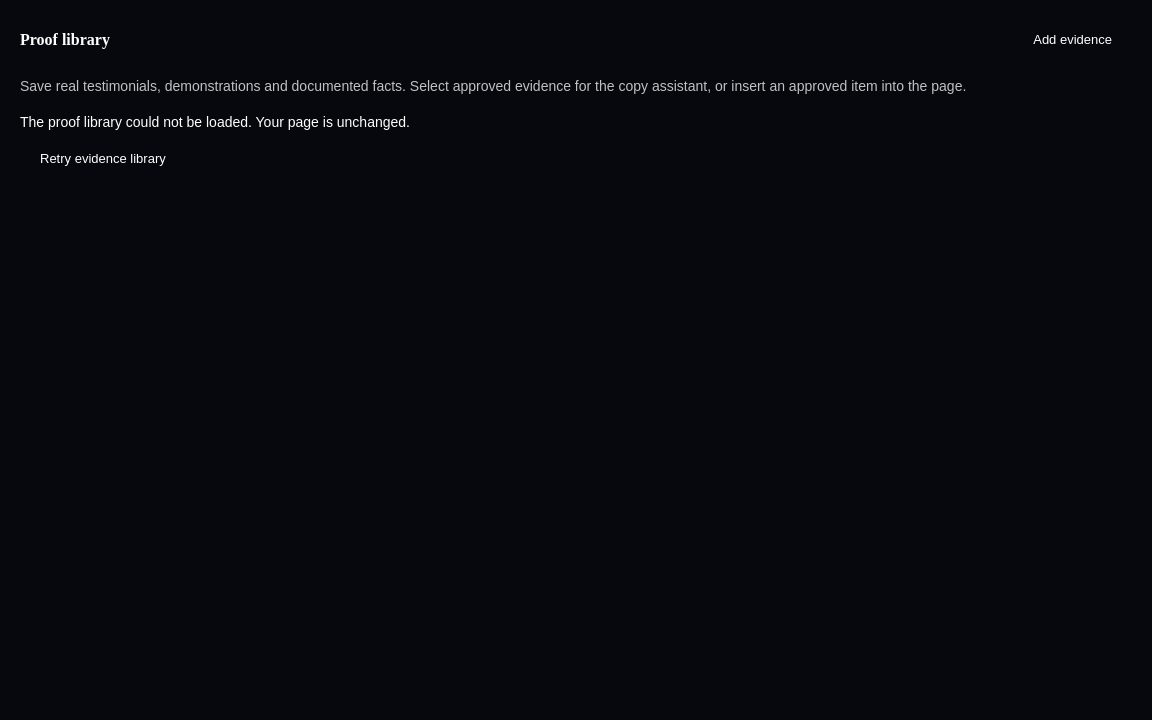
Test: proof library editing › retries a failed library read without claiming there is no evidence or discarding edits
Expected: the text "proof library could not be loaded" is shown, [20, 114, 410, 130]
Click the button "Add evidence" at (1073, 40), box [1013, 20, 1132, 60]
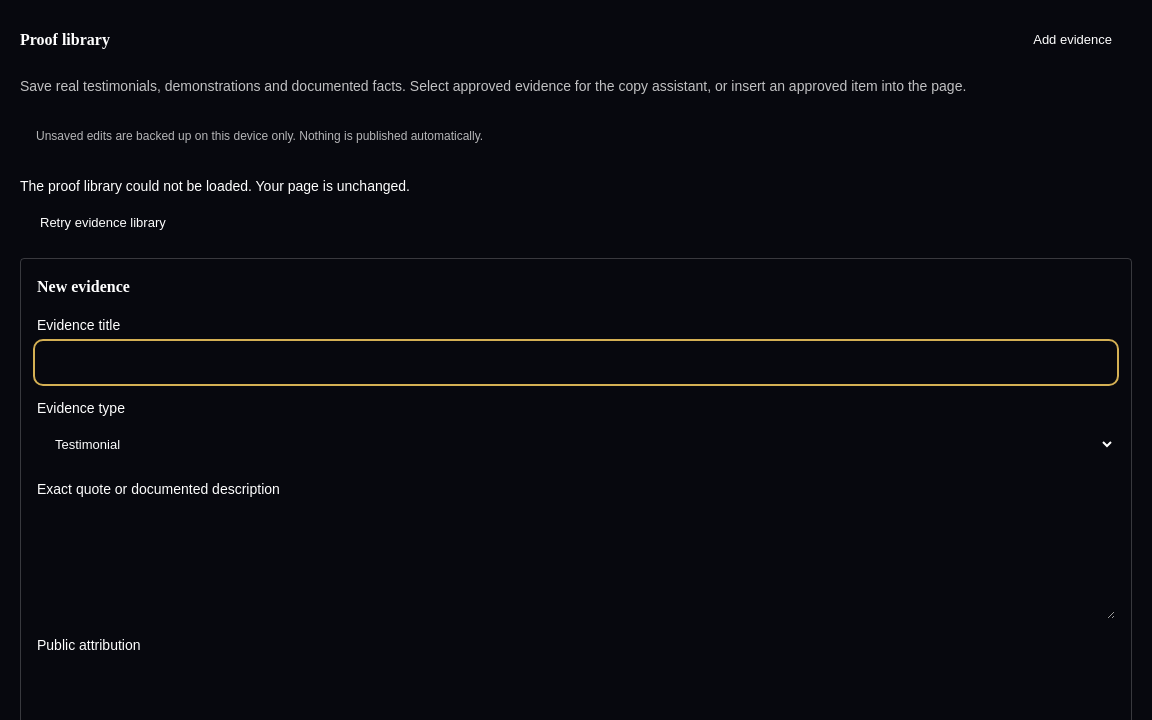
Type "My unsaved evidence" into the field labelled "Evidence title" at (576, 362), box [37, 343, 1115, 382]
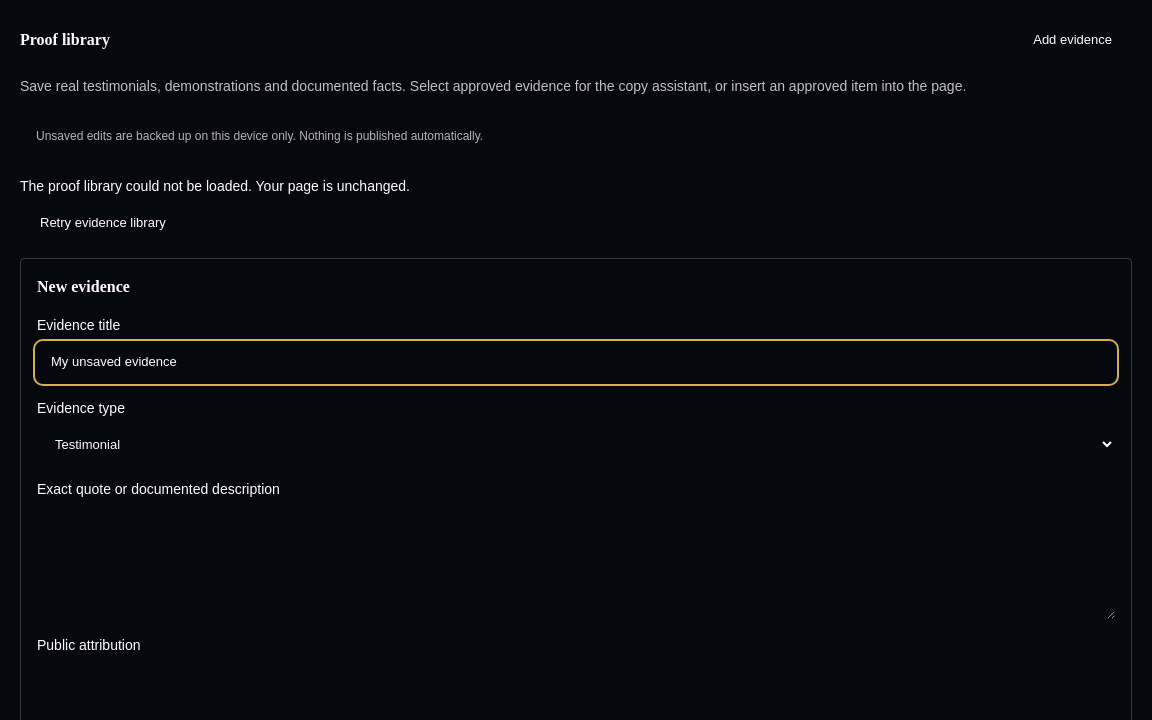
Click the button "Retry evidence library" at (103, 223), box [20, 204, 186, 242]
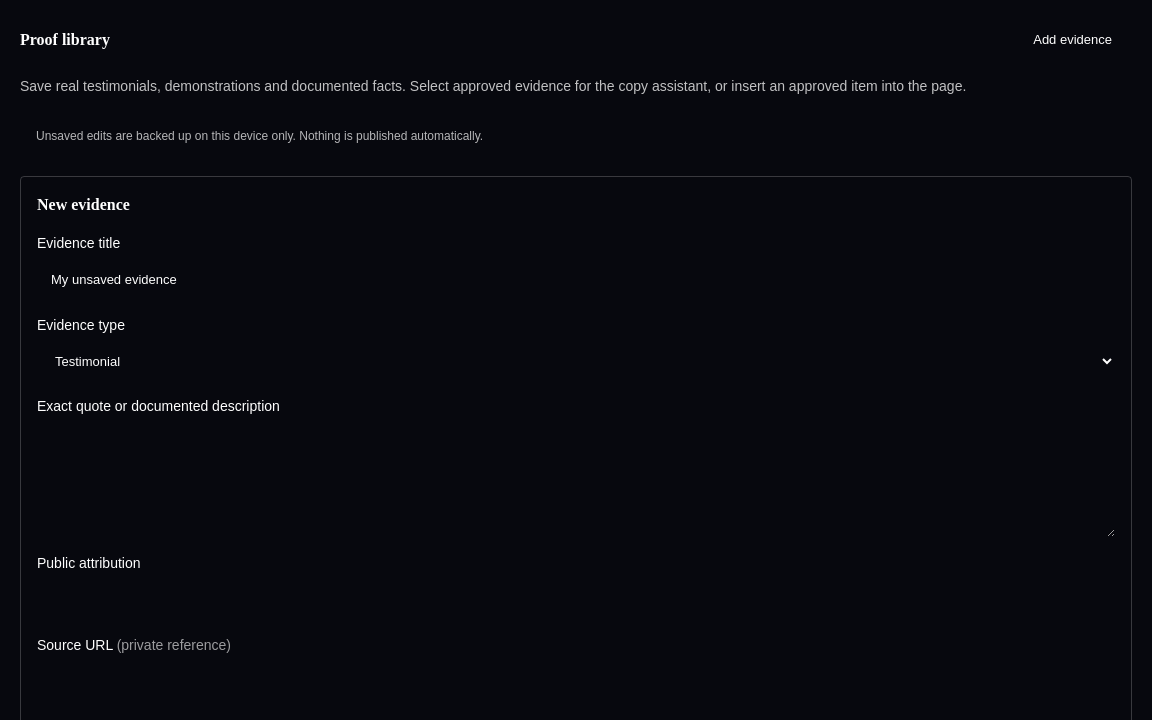
Expected: the text "proof library could not be loaded" is gone
